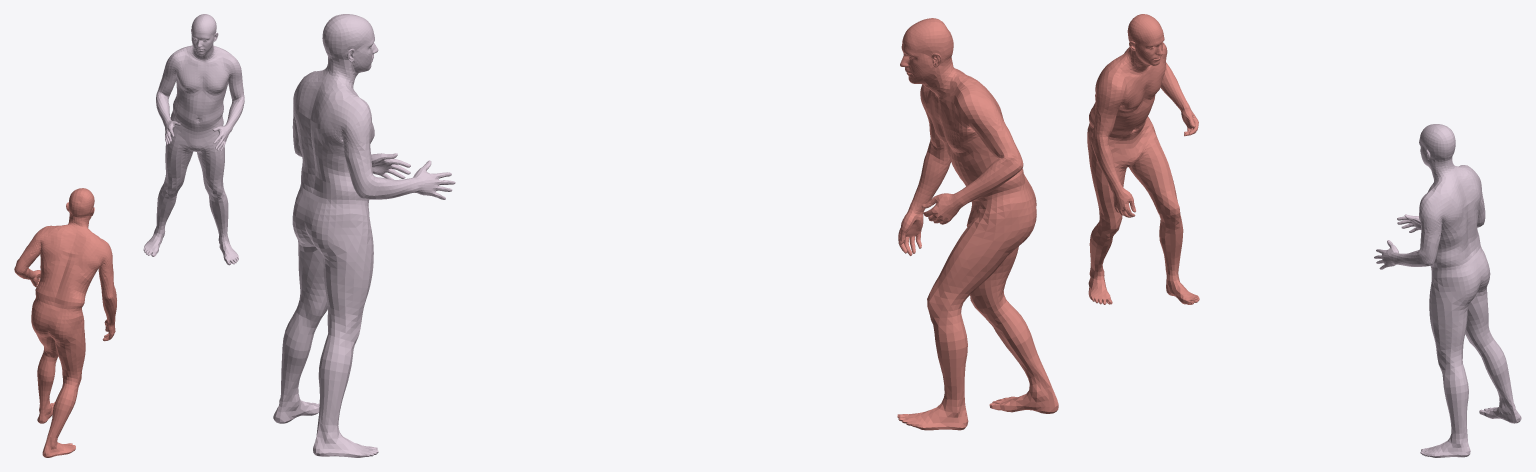
Rendered from frame_0001.glb.
3 views of the same model, side by side, from view 1: azimuth 30°, elevation 25°; view 2: azimuth 150°, elevation 25°; view 3: azimuth 270°, elevation 25° (orthographic). The views are drawn at different scales.
Parts seen in each view (by area): view 1: human_1, human_2; view 2: human_2, human_1; view 3: human_2, human_1.
Boxes of the visible parts, bbox=[...] form: human_1: bbox=[14, 188, 116, 457]; human_2: bbox=[143, 14, 244, 265]; human_2: bbox=[273, 14, 455, 457]; human_1: bbox=[897, 18, 1058, 430]; human_2: bbox=[1374, 124, 1521, 457]; human_1: bbox=[1087, 14, 1199, 304].
Size of the model in its own units: 2.62 by 2.02 by 2.33.
